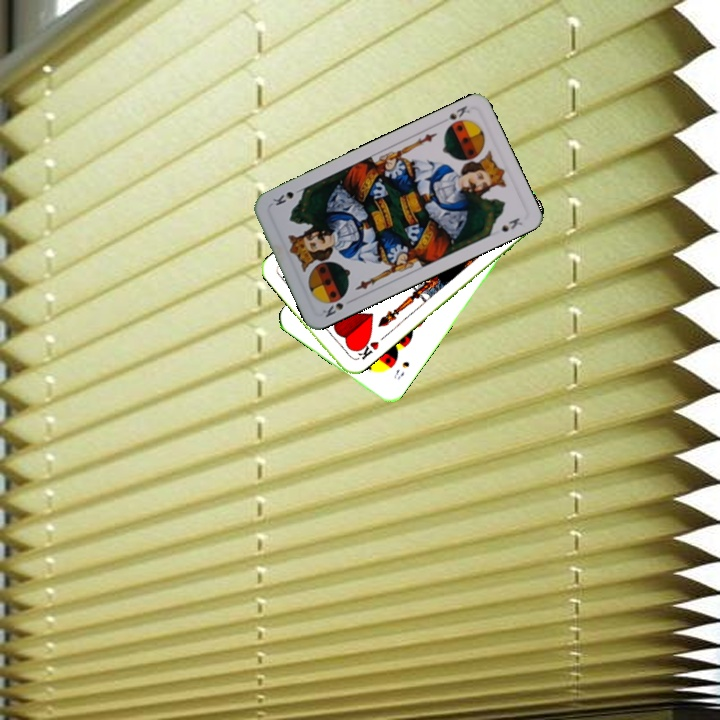HK: (351, 334, 381, 362)
S8: (389, 357, 412, 382)
SK: (318, 295, 356, 320), (436, 101, 472, 127)
